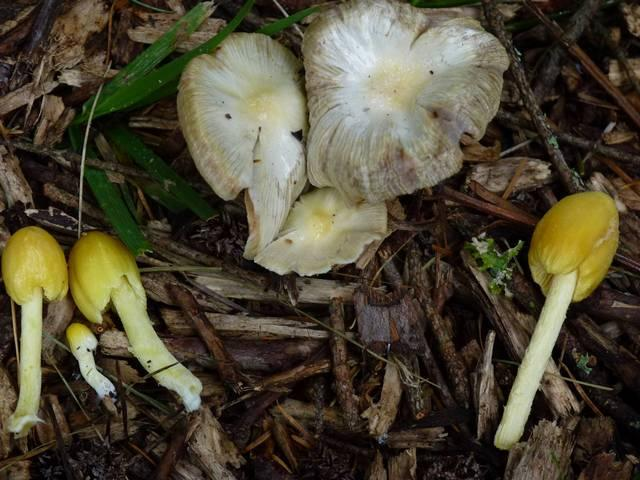Edible Mushroom: (300, 0, 509, 203), (492, 189, 619, 450), (175, 30, 308, 259), (66, 229, 203, 414), (0, 224, 68, 438)
